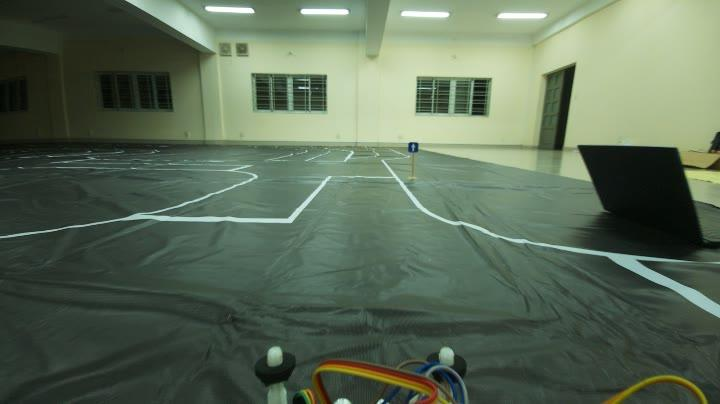onewayroad: (404, 138, 422, 158)
